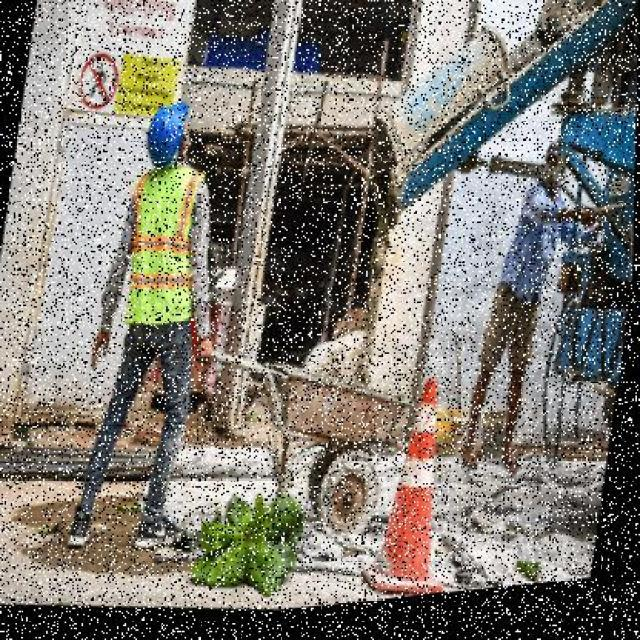helmet: (137, 97, 200, 182)
vest: (108, 151, 222, 349)
